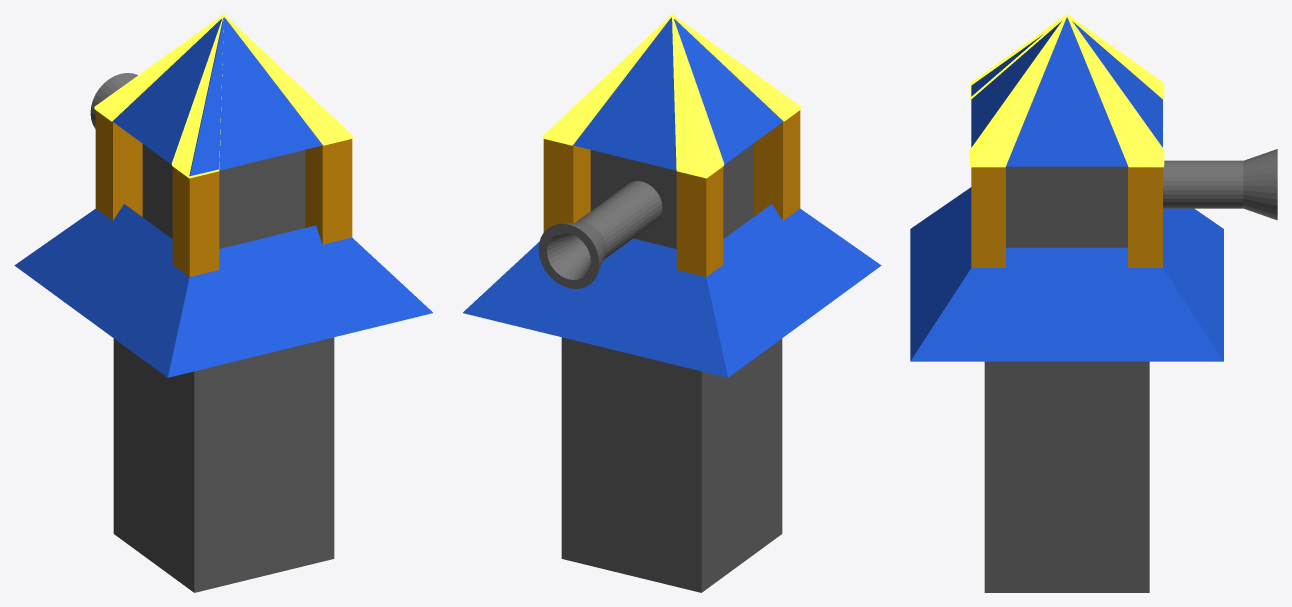
The model's file is Longtower_MiscUpgrade.fbx.
3 views of the same model, side by side, from view 1: azimuth 30°, elevation 25°; view 2: azimuth 150°, elevation 25°; view 3: azimuth 270°, elevation 25° (orthographic). The views are drawn at different scales.
Parts seen in each view (by area): view 1: Cube, Cube.001, Cylinder; view 2: Cube, Cube.001, Cylinder; view 3: Cube, Cube.001, Cylinder.
Part boxes in pixels (x1,y1,x2,y2): Cube: (14,17,432,592); Cube.001: (94,14,353,178); Cylinder: (90,73,137,128); Cube: (463,17,881,592); Cube.001: (542,14,801,178); Cylinder: (538,181,662,288); Cube: (910,17,1223,592); Cube.001: (969,14,1164,167); Cylinder: (1163,149,1277,220).
Bounding box in the file's own units: 380 × 727 × 445.
